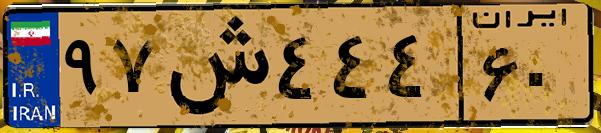0: (525, 38, 570, 115)
4: (270, 28, 330, 110), (385, 28, 445, 110), (330, 28, 385, 110)
6: (475, 38, 525, 113)
7: (110, 28, 158, 98)
9: (57, 26, 110, 100)
ش: (158, 12, 270, 120)
